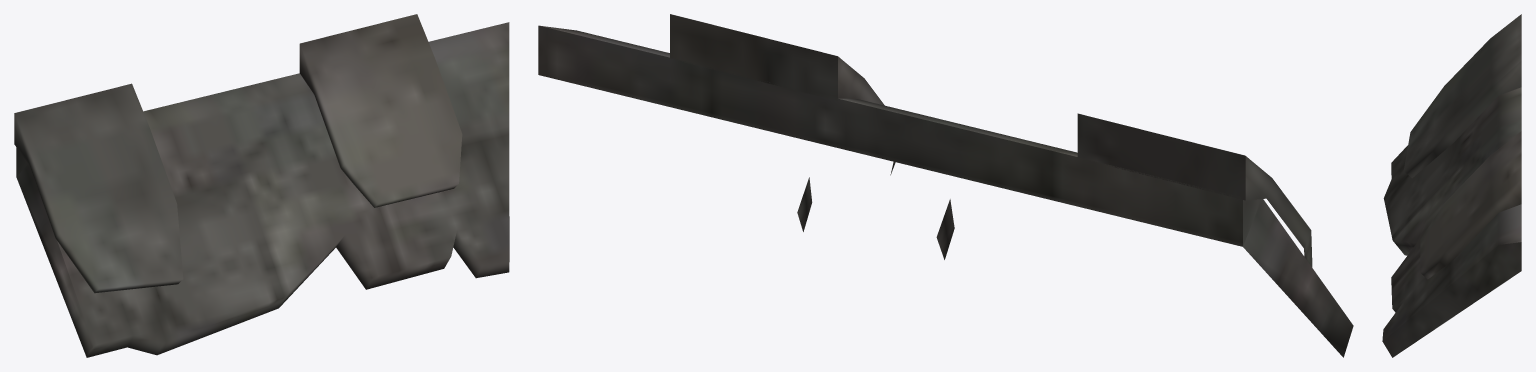
Rendered from roof.stone.corner.60.concave.r.top.line.glb.
3 views of the same model, side by side, from view 1: azimuth 30°, elevation 25°; view 2: azimuth 150°, elevation 25°; view 3: azimuth 270°, elevation 25° (orthographic). The views are drawn at different scales.
Visible parts, largest first — view 1: model; view 2: model; view 3: model.
Part boxes in pixels (x1=…): model: x1=14, y1=14, x2=509, y2=357; model: x1=538, y1=14, x2=1353, y2=357; model: x1=1382, y1=14, x2=1521, y2=357.
Size of the model in its own units: 1.74 by 0.6911 by 0.5033.
Materials: 1 (1 with a texture image).
